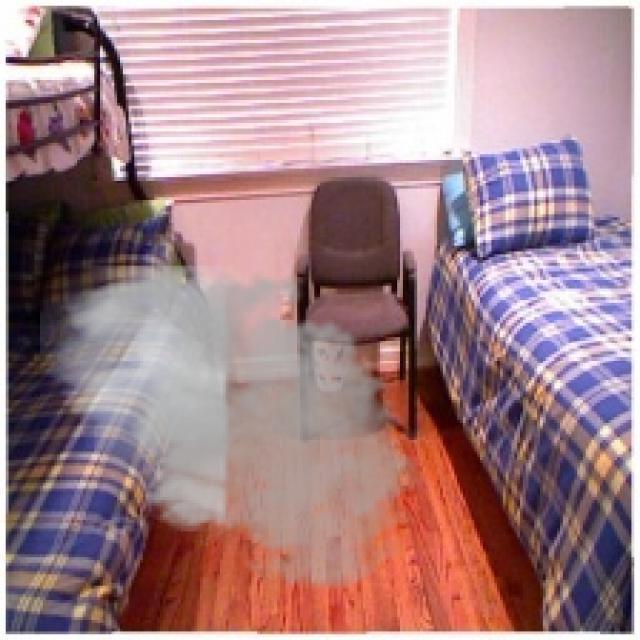Smoke: (39, 252, 434, 597)
